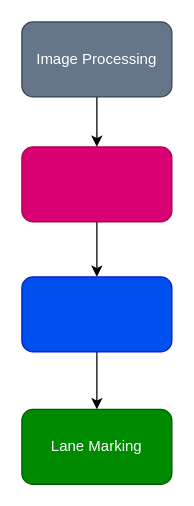
The diagram is 194 pixels wide and 506 high, and some of its shapes have lost their labels. The shapes that lost their labels are listed below. From the top down, each one's box as (x1, y1, x2, y2) in pixels, then its label:
(21, 146, 172, 222): Noise Reduction
(21, 276, 172, 352): Edge Detection
